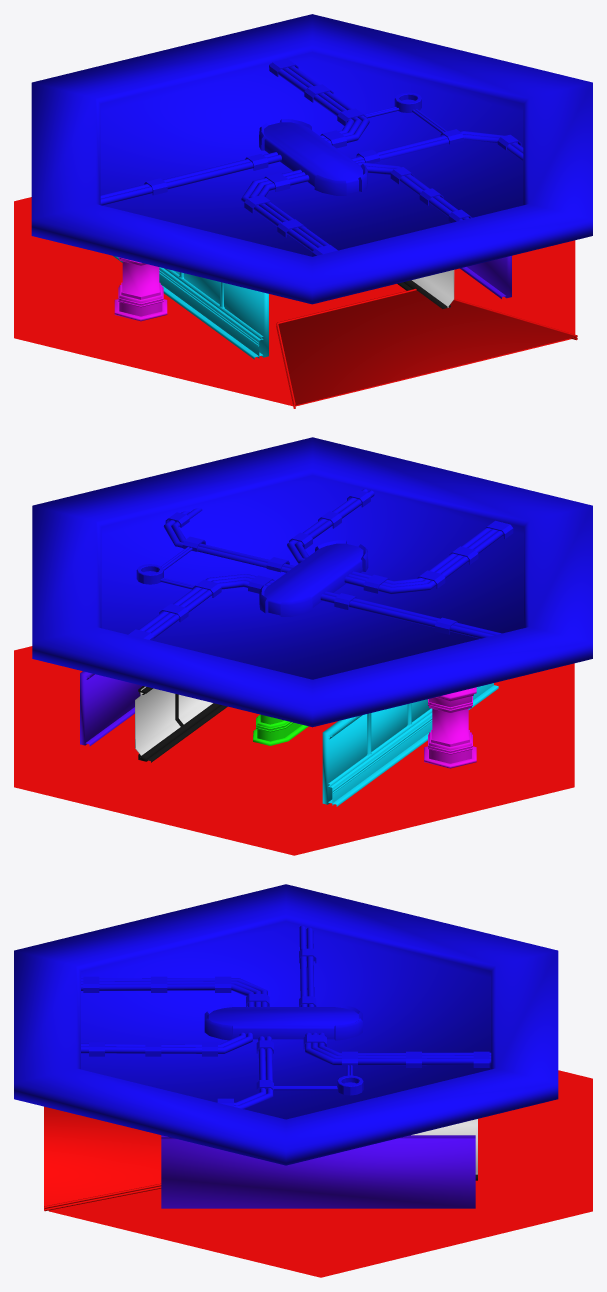
The model's file is Pillar(new).fbx.
The picture shows the model from 3 angles, top to bottom: view 1: azimuth 30°, elevation 25°; view 2: azimuth 150°, elevation 25°; view 3: azimuth 270°, elevation 25°; orthographic projection. The views are drawn at different scales.
Parts seen in each view (by area): view 1: Celling, Floor, Wall, Pillar, Wall(Main), Glass; view 2: Celling, Floor, Wall, Pillar, Wall(Main), Glass, GlassWall, Pillar(Center); view 3: Celling, Floor, Wall(Main), Glass.
Boxes of the visible parts, box(x1,y1,x2,y2) form: Celling: box(31, 14, 592, 304); Floor: box(14, 197, 577, 408); Wall: box(113, 256, 268, 359); Pillar: box(114, 257, 167, 321); Wall(Main): box(460, 256, 511, 298); Glass: box(412, 270, 454, 307); Celling: box(32, 437, 592, 727); Floor: box(14, 646, 574, 855); Wall: box(322, 683, 498, 806); Pillar: box(424, 687, 476, 768); Wall(Main): box(80, 671, 142, 746); Glass: box(135, 686, 212, 755); GlassWall: box(138, 686, 227, 762); Pillar(Center): box(253, 714, 308, 745); Celling: box(14, 884, 558, 1165); Floor: box(44, 1070, 592, 1277); Wall(Main): box(161, 1135, 475, 1208); Glass: box(411, 1119, 477, 1174).
Size of the model in its own units: 93.99 by 21.57 by 86.55.
